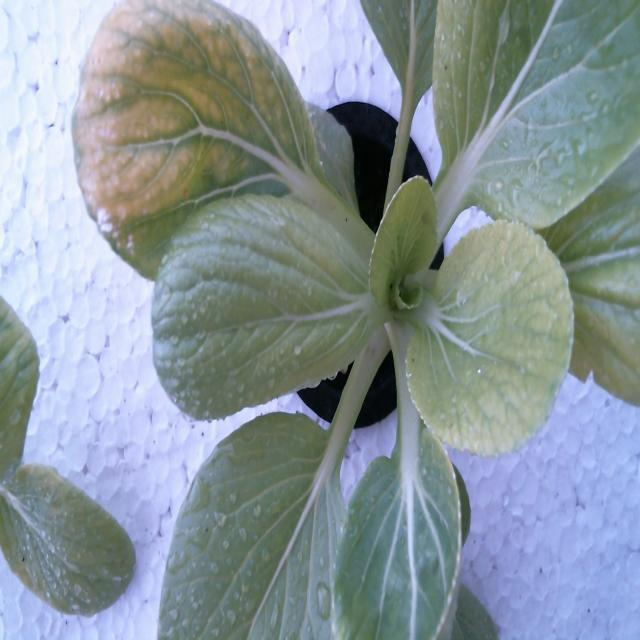pakcoy_tidak_sehat: (60, 0, 640, 481)
